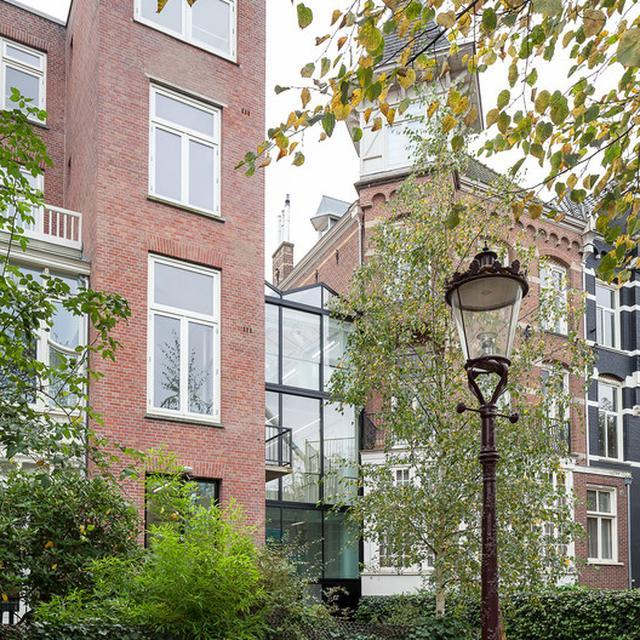building: (284, 0, 640, 588), (0, 0, 265, 561), (262, 270, 362, 597)
